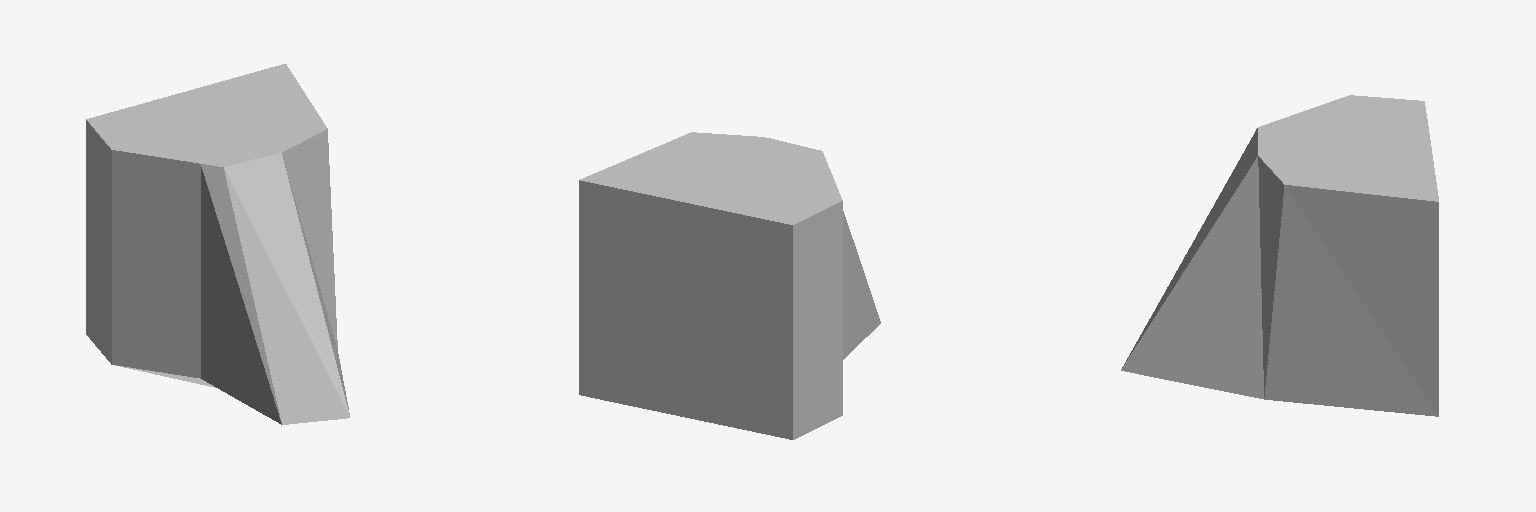
The model's file is Target Platform right.obj.
3 views of the same model, side by side, from view 1: azimuth 30°, elevation 25°; view 2: azimuth 150°, elevation 25°; view 3: azimuth 270°, elevation 25° (orthographic).
Visible parts, largest first — view 1: Target Platform right; view 2: Target Platform right; view 3: Target Platform right.
Boxes of the visible parts, box(x1,y1,x2,y2) form: Target Platform right: box(86, 64, 349, 424); Target Platform right: box(579, 132, 880, 439); Target Platform right: box(1121, 95, 1438, 416).
Size of the model in its own units: 40.13 by 37.61 by 50.57.